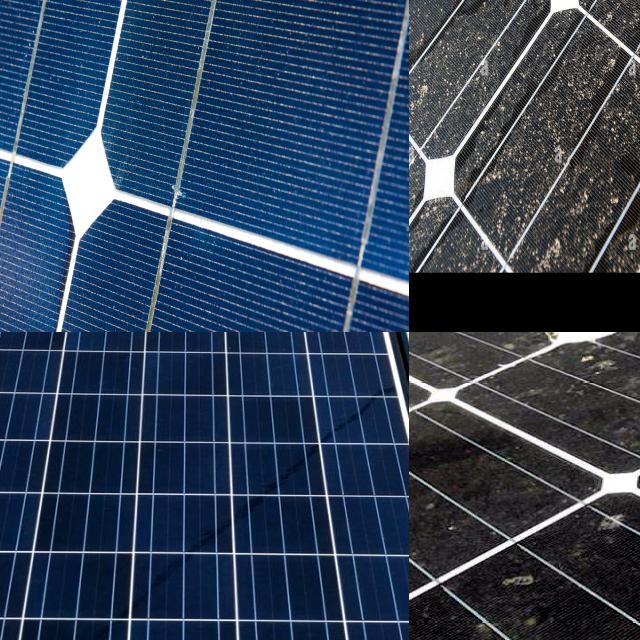bird: (513, 332, 640, 373)
crack: (0, 0, 409, 332), (0, 332, 409, 640), (57, 332, 409, 416), (0, 332, 126, 398)
dust: (484, 68, 630, 252), (409, 0, 492, 140), (409, 113, 469, 266), (515, 0, 619, 62)
